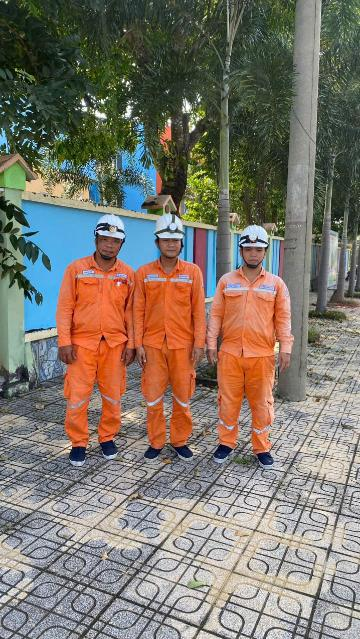helmet: (149, 211, 193, 243), (233, 220, 273, 252), (94, 212, 128, 244)
shoes: (168, 438, 201, 464), (64, 443, 92, 470), (209, 439, 237, 465), (248, 448, 280, 469), (96, 438, 123, 462), (142, 441, 163, 468)
